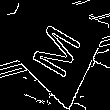M_NW: (20, 12, 80, 76)
